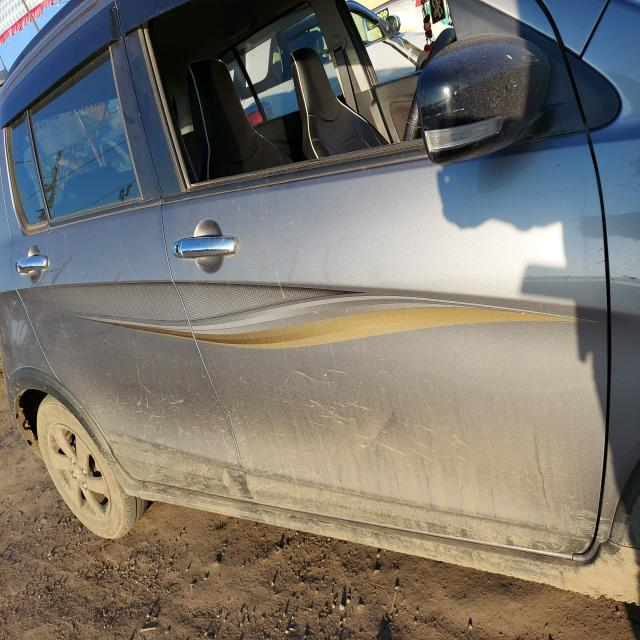damage: (271, 355, 480, 486), (109, 354, 211, 446)
